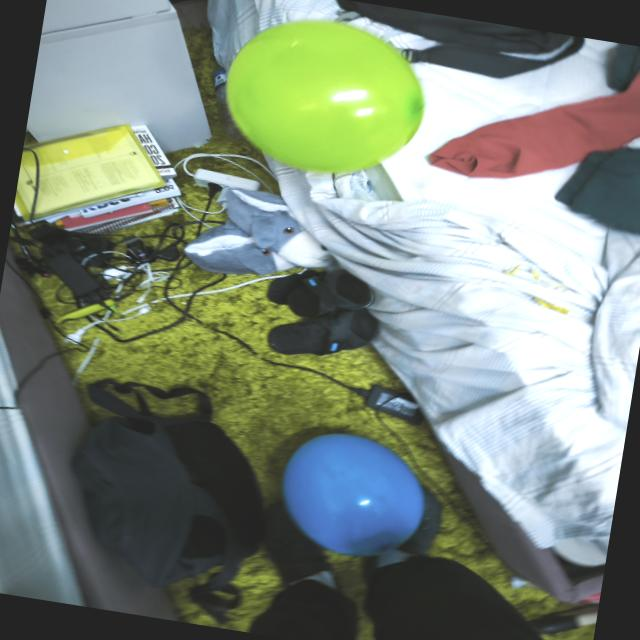balloon: (227, 21, 424, 173), (282, 434, 425, 556)
